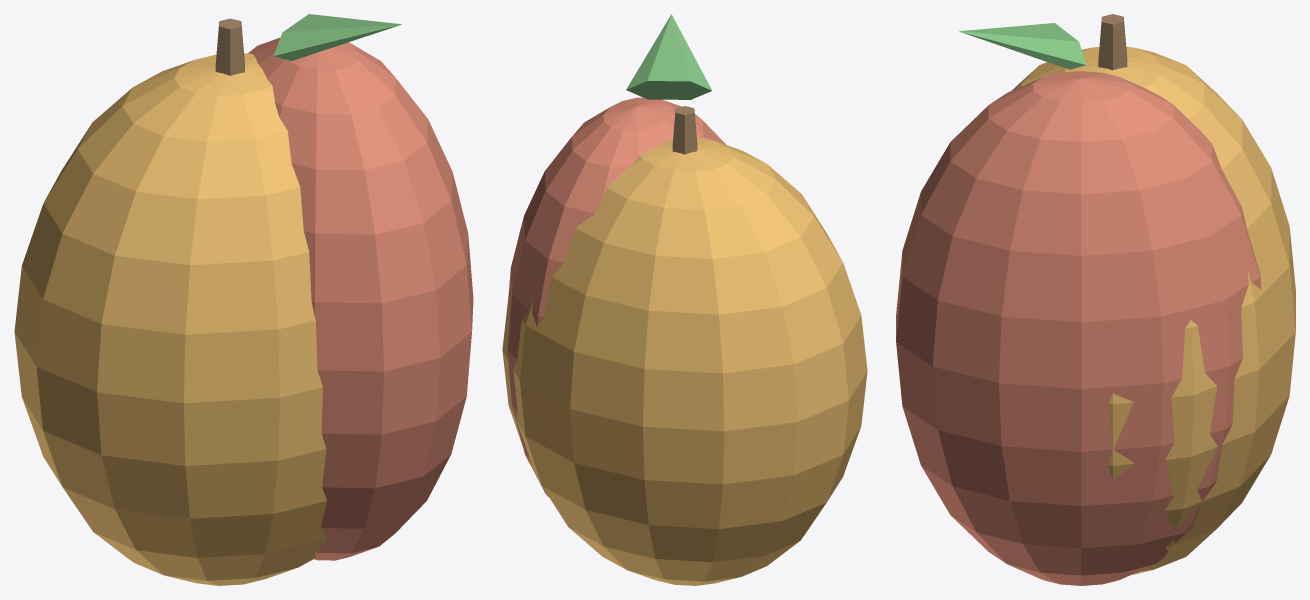
The model's file is 4178_mango.glb.
3 renders of one model, left to right at view 1: azimuth 30°, elevation 25°; view 2: azimuth 150°, elevation 25°; view 3: azimuth 270°, elevation 25°, orthographic. The views are drawn at different scales.
Bounding box in the file's own units: 0.7075 × 1.01 × 0.6335.
